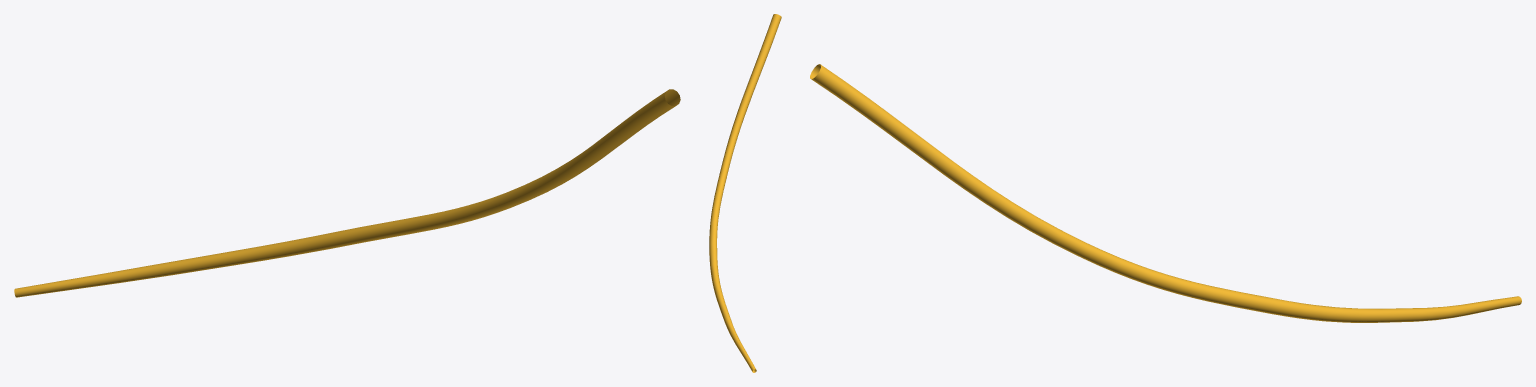
File: nervoso-superior-subscapular-nerve-l.glb
3 views of the same model, side by side, from view 1: azimuth 30°, elevation 25°; view 2: azimuth 150°, elevation 25°; view 3: azimuth 270°, elevation 25° (orthographic). The views are drawn at different scales.
Parts seen in each view (by area): view 1: Superior subscapular nerve.l; view 2: Superior subscapular nerve.l; view 3: Superior subscapular nerve.l.
Boxes of the visible parts, x1=… form: Superior subscapular nerve.l: x1=14, y1=89, x2=680, y2=297; Superior subscapular nerve.l: x1=709, y1=14, x2=781, y2=372; Superior subscapular nerve.l: x1=810, y1=64, x2=1521, y2=322.
Size of the model in its own units: 0.0322 by 0.0378 by 0.0628.
